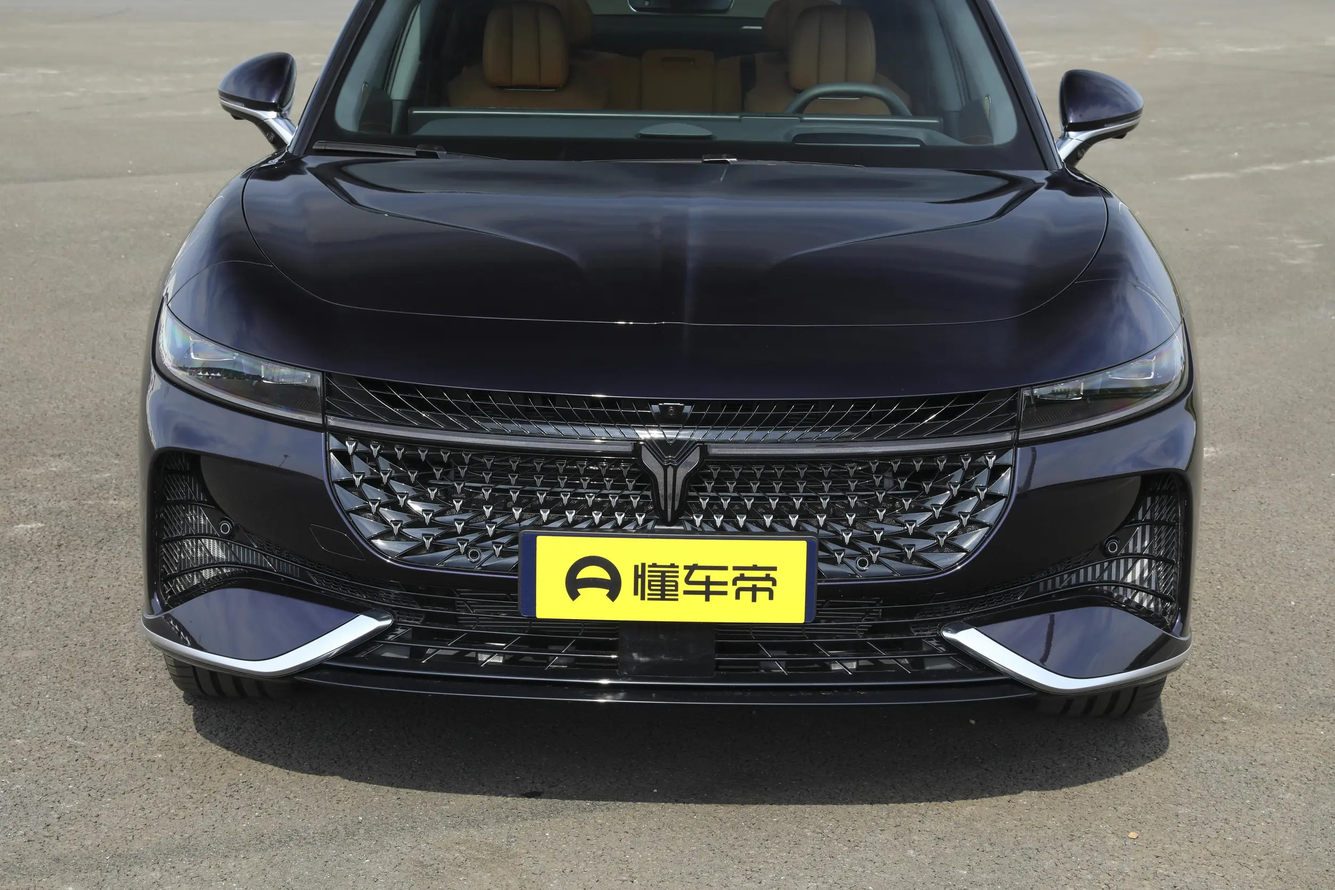VOYAH: (641, 446, 699, 522)
